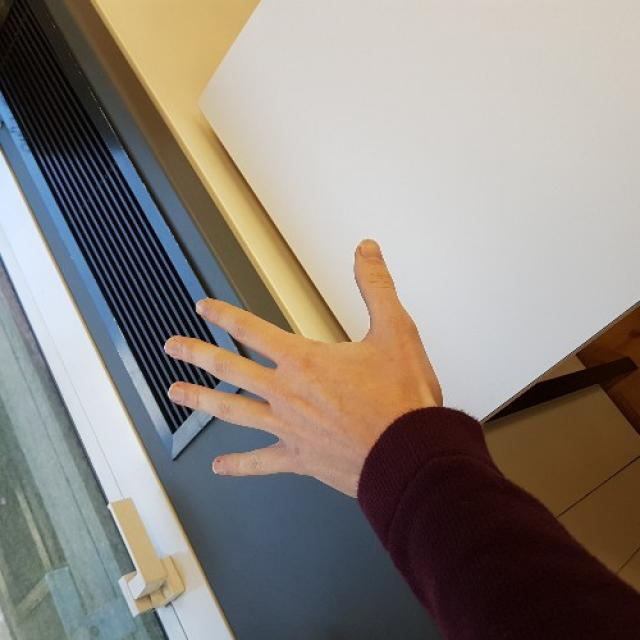paper: (167, 239, 429, 496)
